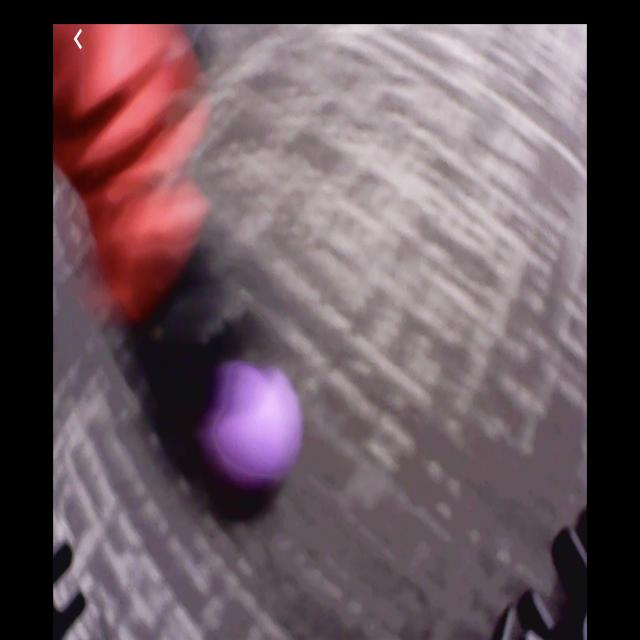ball: (204, 365, 301, 493)
